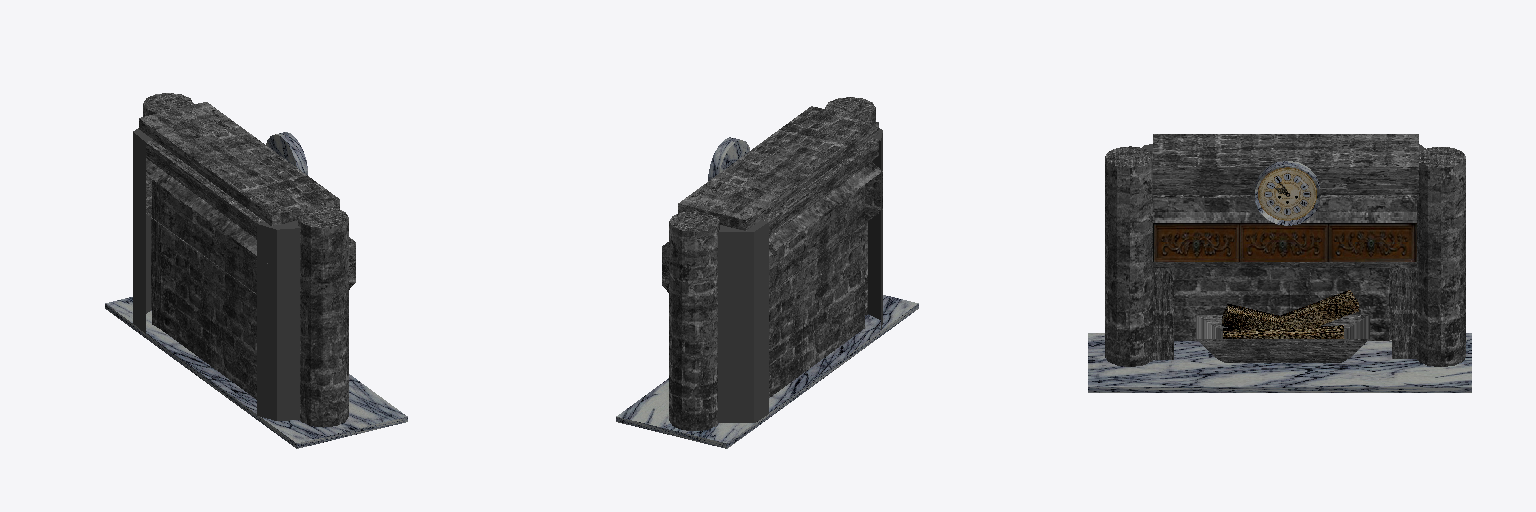
3 views of the same model, side by side, from view 1: azimuth 30°, elevation 25°; view 2: azimuth 150°, elevation 25°; view 3: azimuth 270°, elevation 25° (orthographic).
Visible parts, largest first — view 1: fireplace; view 2: fireplace; view 3: fireplace.
Boxes of the visible parts, x1,y1,x2,y2 form: fireplace: [105, 93, 407, 448]; fireplace: [616, 97, 918, 448]; fireplace: [1088, 134, 1471, 392].
Bounding box in the file's own units: 39.73 × 74.48 × 118.
1 materials, 1 textured.